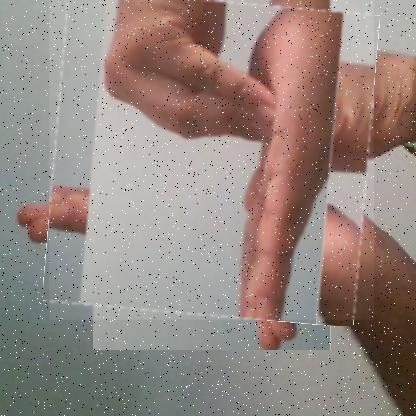Z: (48, 0, 374, 321)
